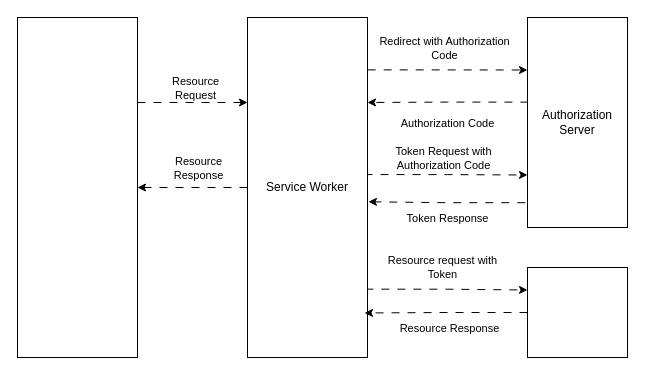
Image size: 645x375. Some labels were removed from this diagram. The shapes that lost their labels are listed below. From the top down, each one's centre as x and y in pixels, then its label:
the point at 77,187: Browser-Based Application
the point at 577,312: Resource Server
